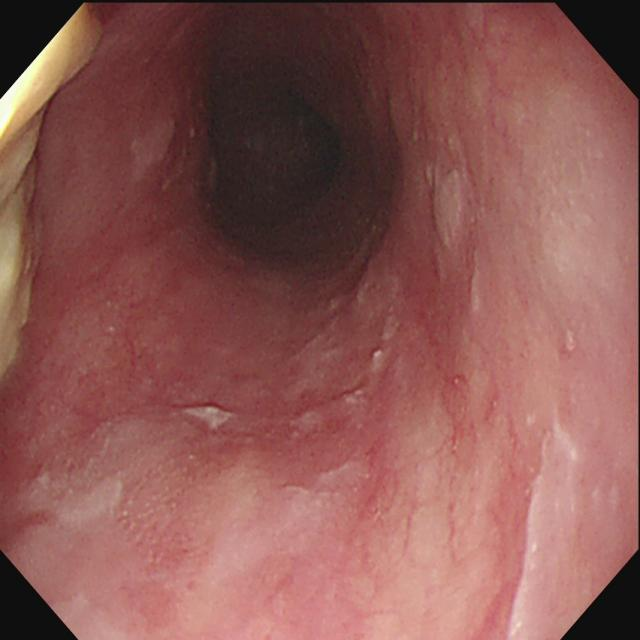E: (216, 97, 338, 221)
J: (512, 408, 582, 640), (423, 168, 468, 249), (131, 118, 177, 180), (179, 405, 237, 428)
